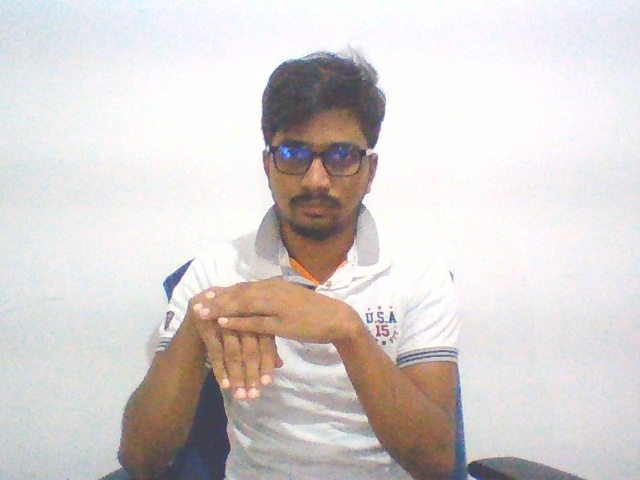pineapple: (186, 272, 360, 407)
